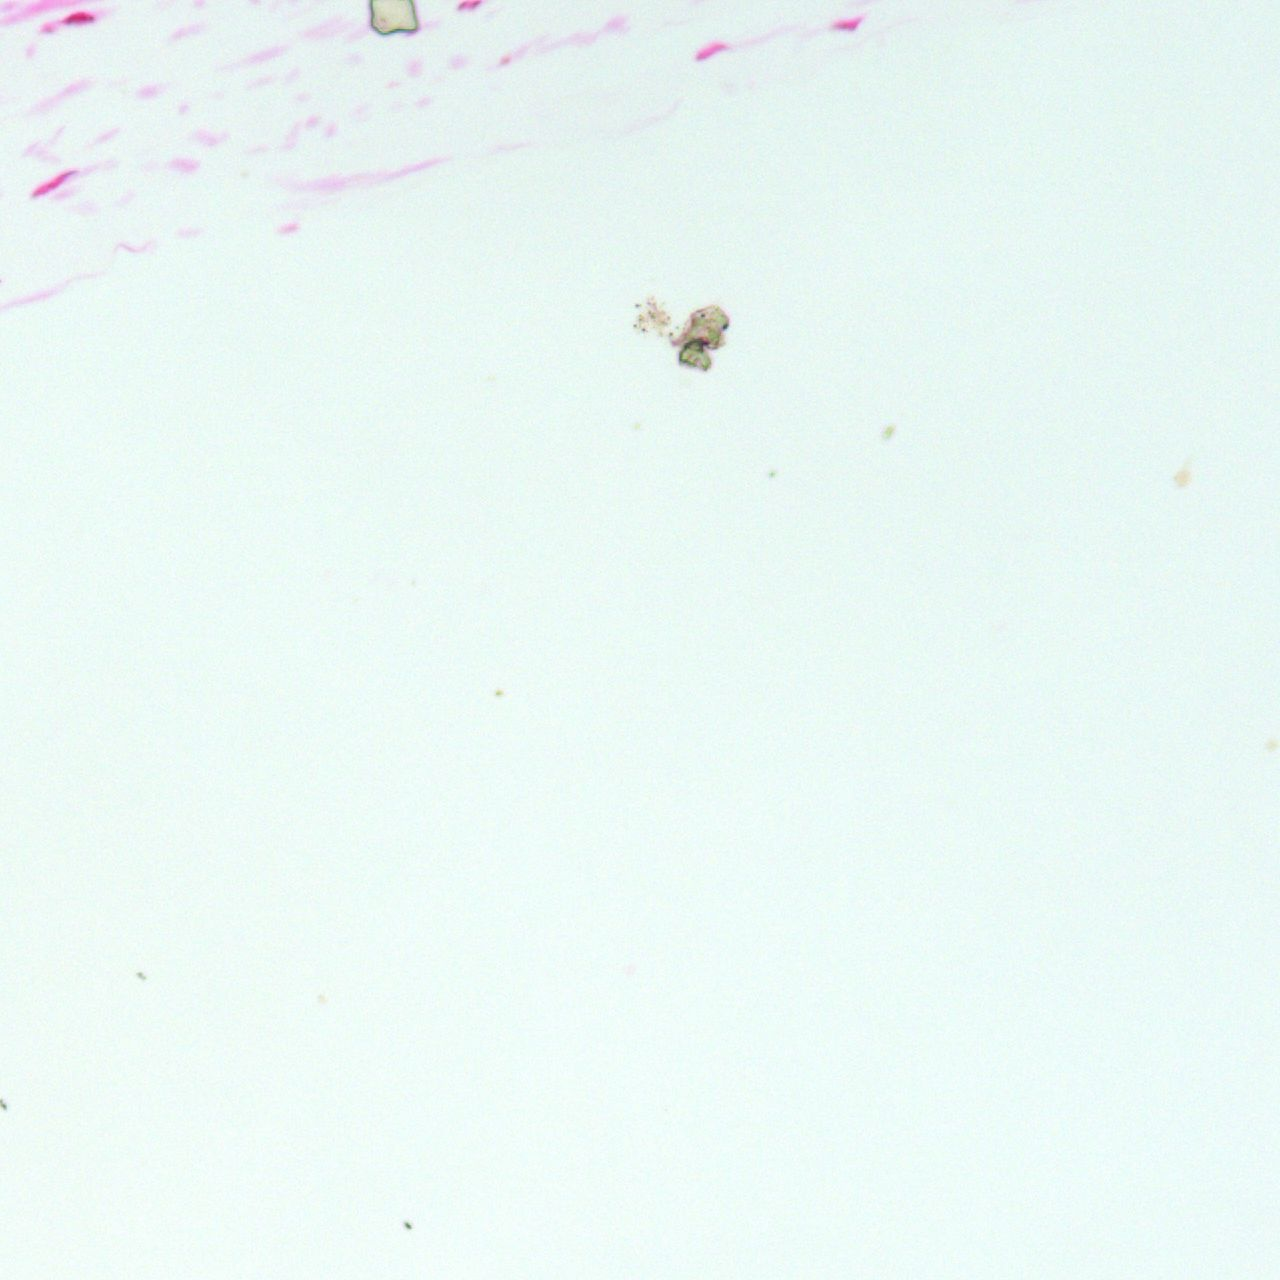dust: (670, 297, 735, 374), (629, 297, 676, 338), (1173, 469, 1192, 492), (879, 422, 897, 440), (1266, 737, 1280, 753), (767, 469, 779, 481), (136, 969, 147, 982), (404, 1220, 414, 1231), (493, 689, 505, 697)
nucleus-FG: (30, 169, 74, 200), (693, 39, 727, 63), (64, 9, 94, 25), (835, 18, 862, 33), (458, 1, 481, 11)
